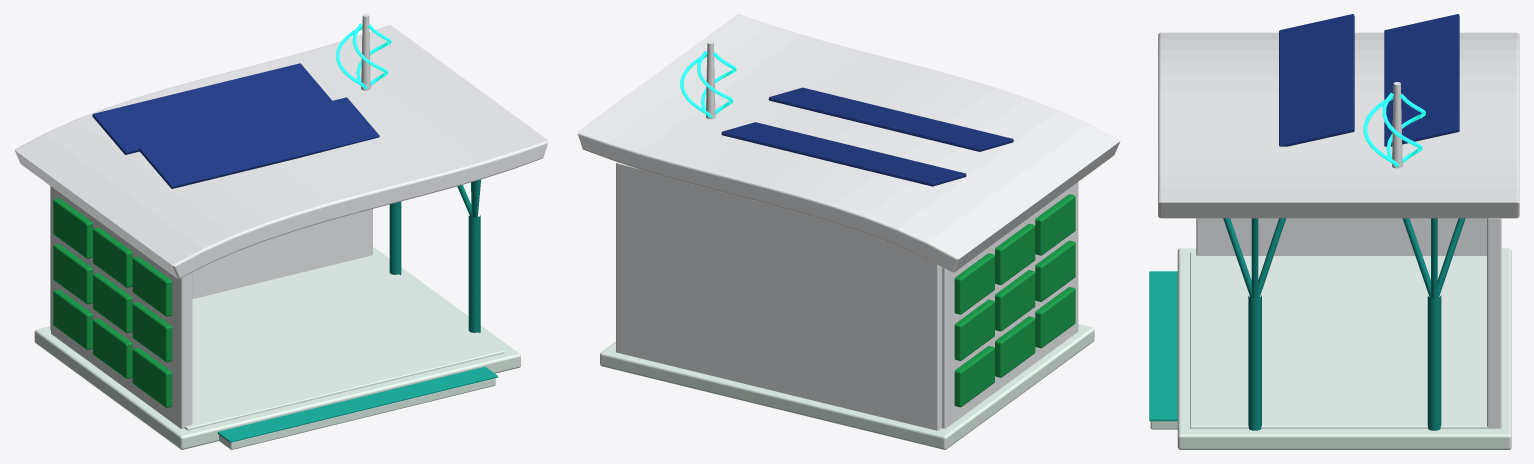
The model's file is booth-energy.glb.
3 renders of one model, left to right at view 1: azimuth 30°, elevation 25°; view 2: azimuth 150°, elevation 25°; view 3: azimuth 270°, elevation 25°, orthographic. The views are drawn at different scales.
Visible parts, largest first — view 1: BoothShellEnergy; view 2: BoothShellEnergy; view 3: BoothShellEnergy.
Part boxes in pixels (x1=…): BoothShellEnergy: x1=14, y1=14, x2=548, y2=449; BoothShellEnergy: x1=577, y1=14, x2=1120, y2=449; BoothShellEnergy: x1=1149, y1=14, x2=1519, y2=449.
Bounding box in the file's own units: 7.95 × 5.97 × 5.99.
